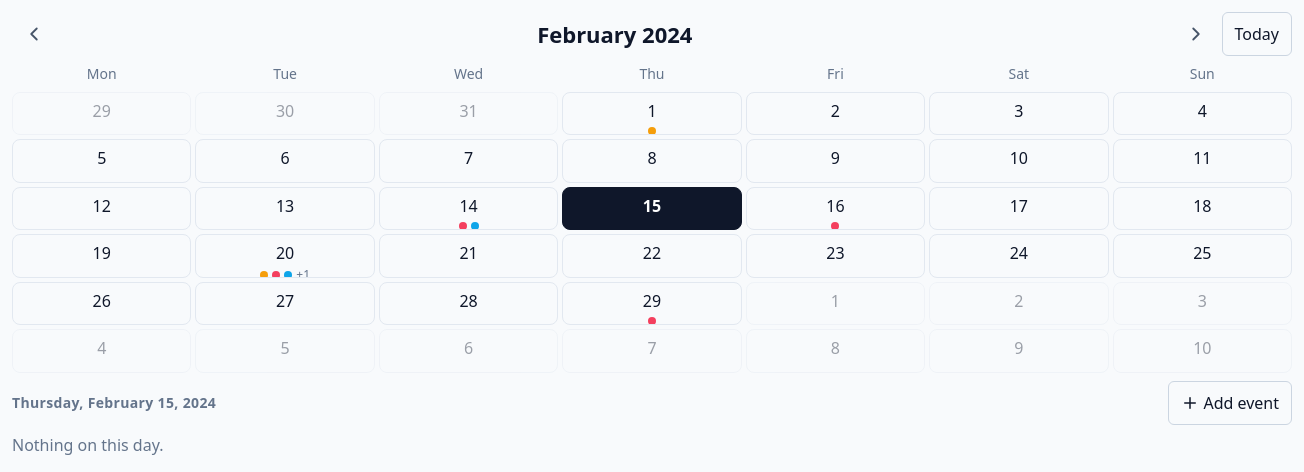
Test: Calendar — navigation › clears the day selection when navigating away from the month holding today
Expected: the heading "February 2024" is shown, [537, 19, 692, 49]
Expected: the heading "Thursday, February 15, 2024" is shown, [12, 393, 216, 413]
Click the button named "Next month".
click(1196, 34)  # box [1174, 12, 1218, 56]
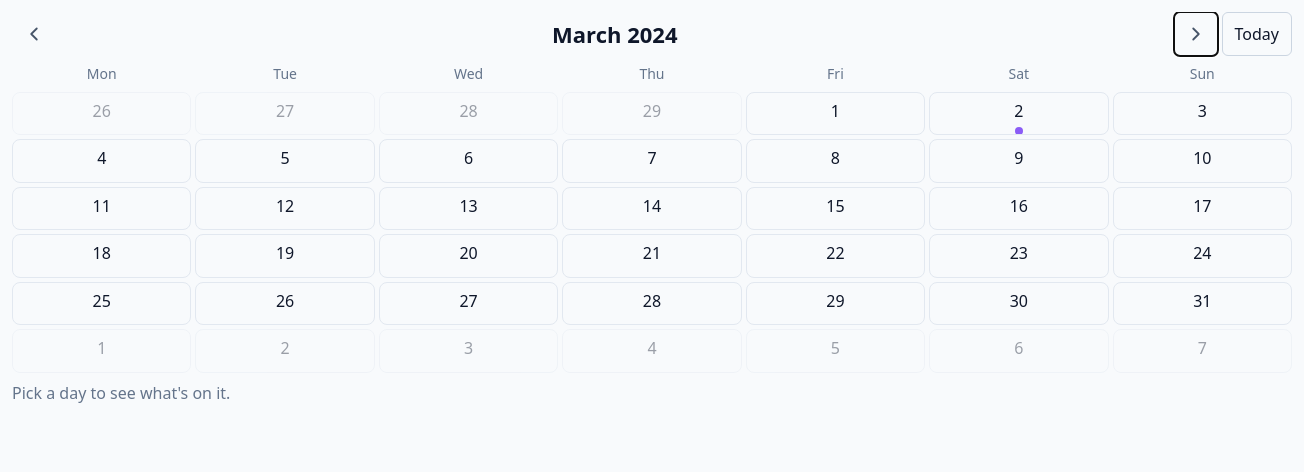
Result: the heading "March 2024" is shown at [552, 19, 678, 49]
Result: the heading "Thursday, February 15, 2024" is gone
